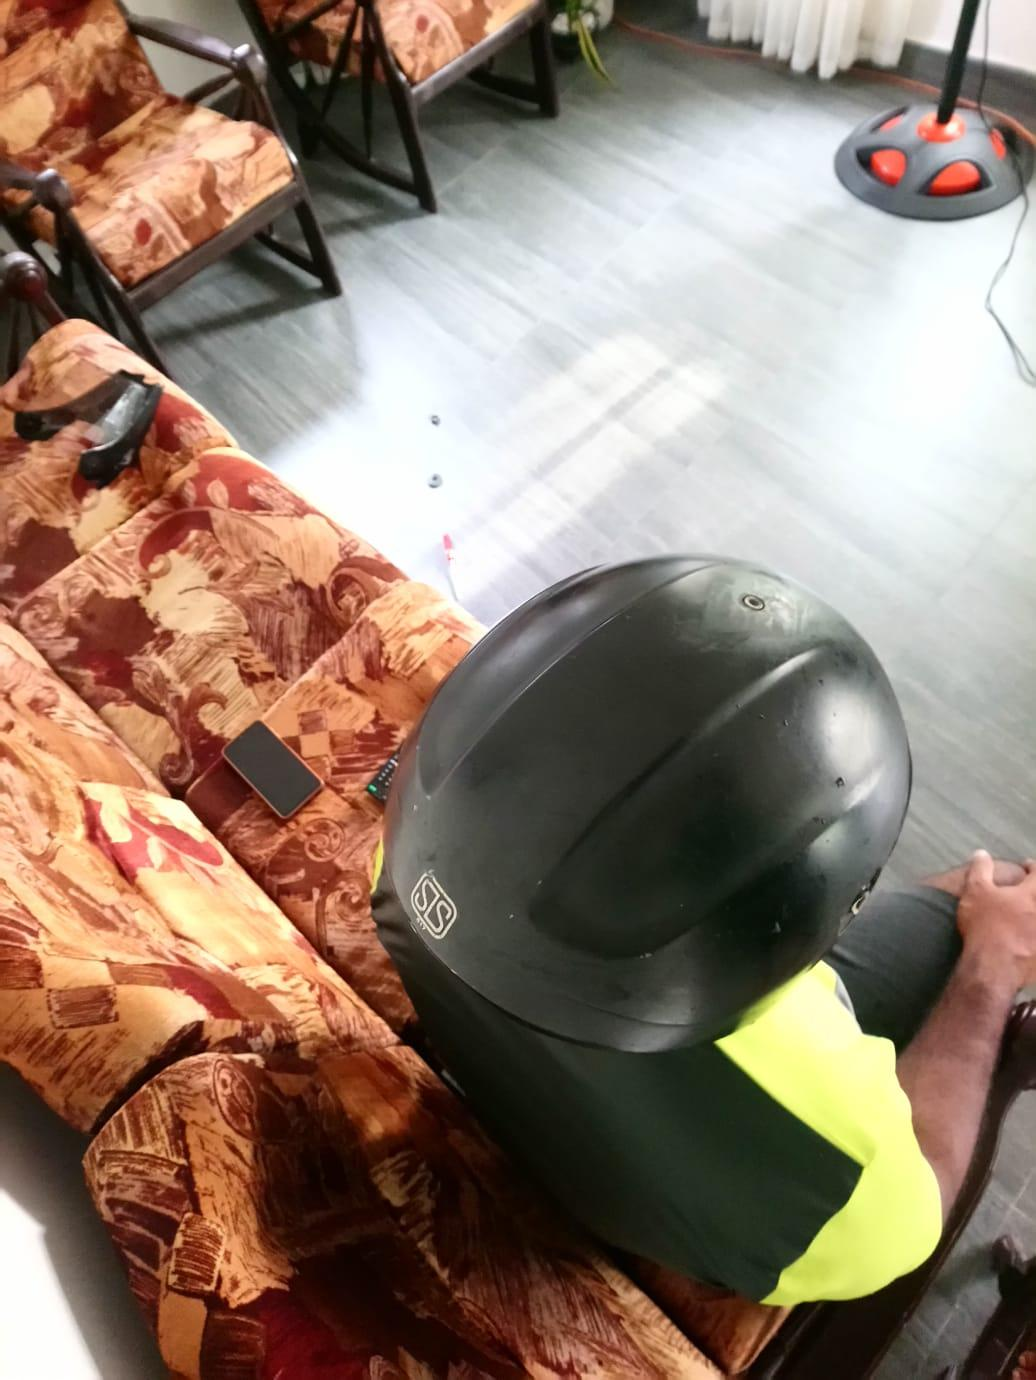helmet: (384, 550, 924, 1058)
